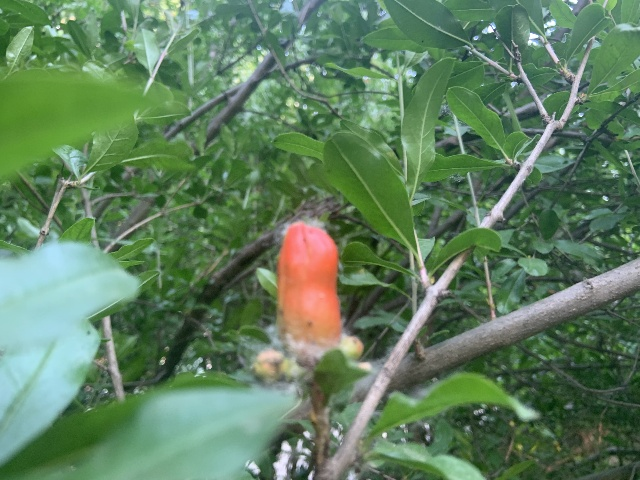bud: (275, 221, 341, 352)
